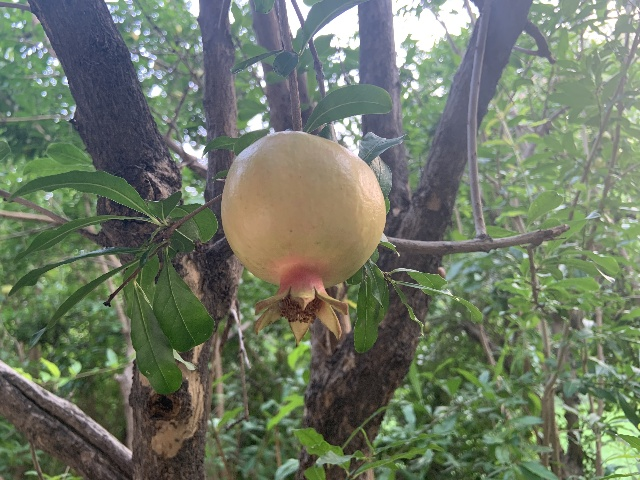mid-growth: (220, 130, 386, 348)
